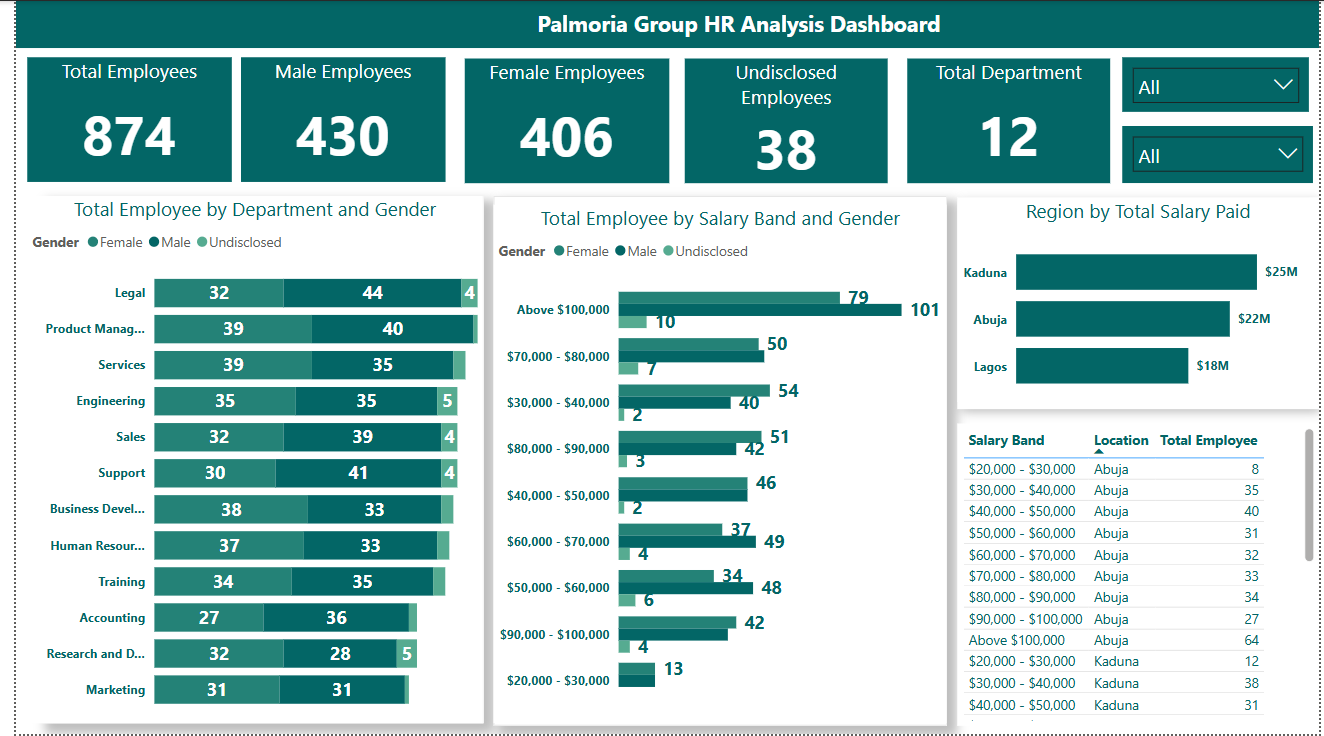

What the dashboard file says about the page in this screenshot:
{"tool":"powerbi","page":{"name":"Page 2","canvas":[1280,720],"ordinal":1},"visuals":[{"type":"shape","box":[0,0,1279.7,46.2],"z":0},{"type":"textbox","box":[506.7,2.4,468.1,43.4],"z":1000},{"type":"card","title":"Total Employees","fields":{"Values":["Palmoria Group emp-data.Total Employee"]},"box":[11.5,54.8,200.5,122.6],"z":2000},{"type":"card","title":"Male Employees","fields":{"Values":["Palmoria Group emp-data.Male Employees"]},"box":[220.7,54.8,200.5,122.6],"z":3000},{"type":"card","title":"Female Employees","fields":{"Values":["Palmoria Group emp-data.Female Employees"]},"box":[440,56.3,200.5,122.6],"z":4000},{"type":"card","title":"Undisclosed Employees","fields":{"Values":["Palmoria Group emp-data.Undisclosed Employees"]},"box":[656.5,56.3,199.1,122.6],"z":5000},{"type":"shape","box":[24.5,191.9,434.3,518],"z":6000},{"type":"card","title":"Total Department","fields":{"Values":["Count(Palmoria Group emp-data.Department)"]},"box":[874.3,56.3,199.1,122.6],"z":7000},{"type":"shape","box":[469.3,191.8,445.2,520],"z":8000},{"type":"slicer","fields":{"Values":["Palmoria Group emp-data.Gender"]},"box":[1086.4,54.8,183.2,53.4],"z":9000},{"type":"slicer","fields":{"Values":["Palmoria Group emp-data.Location"]},"box":[1086.4,122.6,187.6,56.3],"z":10000},{"type":"barChart","fields":{"Category":["Palmoria Group emp-data.Department"],"Series":["Palmoria Group emp-data.Gender"],"Y":["Palmoria Group emp-data.Total Employee"]},"box":[11.5,191.9,447.3,518],"z":11000},{"type":"clusteredBarChart","fields":{"Category":["Palmoria Group emp-data.Salary Band"],"Series":["Palmoria Group emp-data.Gender"],"Y":["Palmoria Group emp-data.Total Employee"]},"box":[469.3,200.3,445.2,509.1],"z":12000},{"type":"shape","box":[924.1,192.1,346.1,201.1],"z":13000},{"type":"barChart","title":"Region by Total Salary Paid","fields":{"Category":["Palmoria Group emp-data.Location"],"Y":["Palmoria Group emp-data.Total Salary"]},"box":[924.1,192.1,355.2,208.4],"z":14000},{"type":"tableEx","fields":{"Values":["Palmoria Group emp-data.Salary Band","Palmoria Group emp-data.Location","Palmoria Group emp-data.Total Employee"]},"box":[924.1,415,355.2,297.2],"z":15000}]}

Visuals, with their boxes in screenshot pixels (x1, y1, x2, y2), scaled from the page's 1280x720 canvas onto the 1324x736 screenshot:
shape: box=[0, 0, 1323, 47]
textbox: box=[524, 2, 1008, 47]
"Total Employees" card: box=[12, 56, 219, 181]
"Male Employees" card: box=[228, 56, 436, 181]
"Female Employees" card: box=[455, 58, 663, 183]
"Undisclosed Employees" card: box=[679, 58, 885, 183]
shape: box=[25, 196, 475, 726]
"Total Department" card: box=[904, 58, 1110, 183]
shape: box=[485, 196, 946, 728]
slicer - Palmoria Group emp-data.Gender: box=[1124, 56, 1313, 111]
slicer - Palmoria Group emp-data.Location: box=[1124, 125, 1318, 183]
barChart - Palmoria Group emp-data.Department x Palmoria Group emp-data.Gender: box=[12, 196, 475, 726]
clusteredBarChart - Palmoria Group emp-data.Salary Band x Palmoria Group emp-data.Gender: box=[485, 205, 946, 725]
shape: box=[956, 196, 1314, 402]
"Region by Total Salary Paid" barChart: box=[956, 196, 1323, 409]
tableEx - Palmoria Group emp-data.Salary Band x Palmoria Group emp-data.Location: box=[956, 424, 1323, 728]
